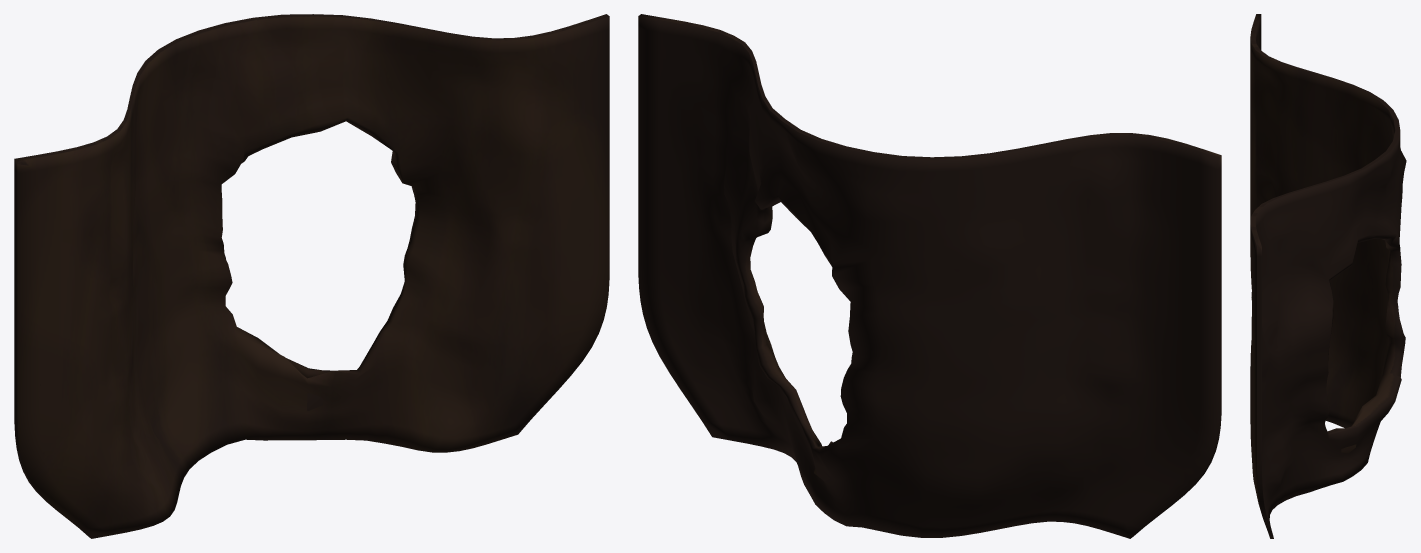
File: tree_bark.glb
3 renders of one model, left to right at view 1: azimuth 30°, elevation 25°; view 2: azimuth 150°, elevation 25°; view 3: azimuth 270°, elevation 25°, orthographic. The views are drawn at different scales.
Parts seen in each view (by area): view 1: tree; view 2: tree; view 3: tree.
Boxes of the visible parts, box(x1,y1,x2,y2) form: tree: box(14, 14, 609, 538); tree: box(638, 14, 1221, 538); tree: box(1250, 14, 1406, 538).
Bounding box in the file's own units: 242 × 158 × 68.59.
1 material, 1 textured.
